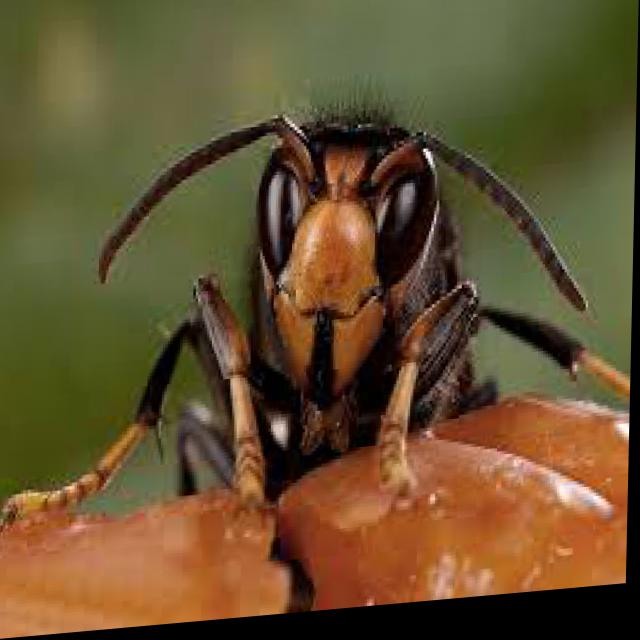Vespa Velutina: (0, 59, 636, 583)
